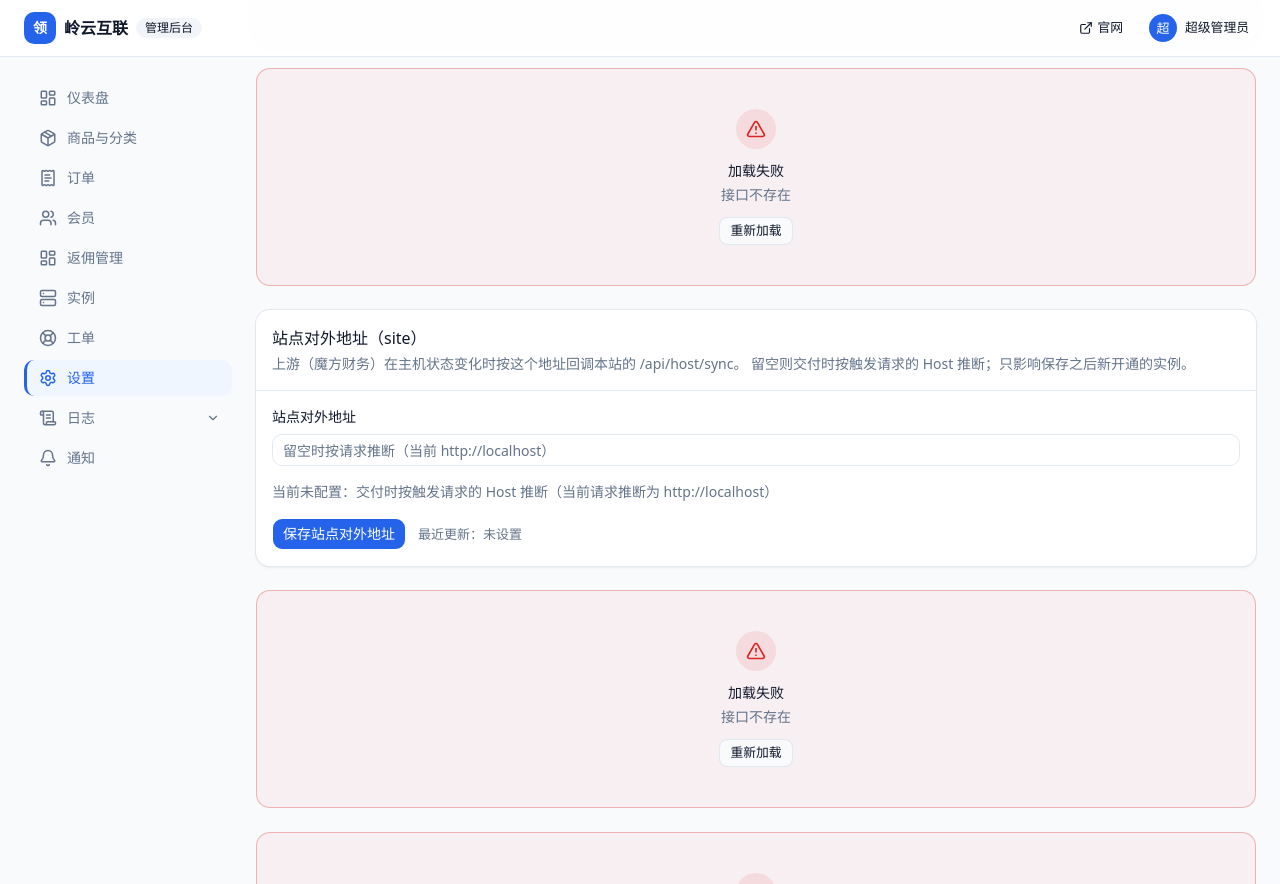
Test: 管理后台设置页：站点对外地址（R16） › 保存时带上去尾斜杠的地址并在成功后回读
(page scrolled)
Type "https://oem.example.com/" into the field labelled "站点对外地址". click: {"x": 756, "y": 450}
box: x1=272 y1=434 x2=1240 y2=466
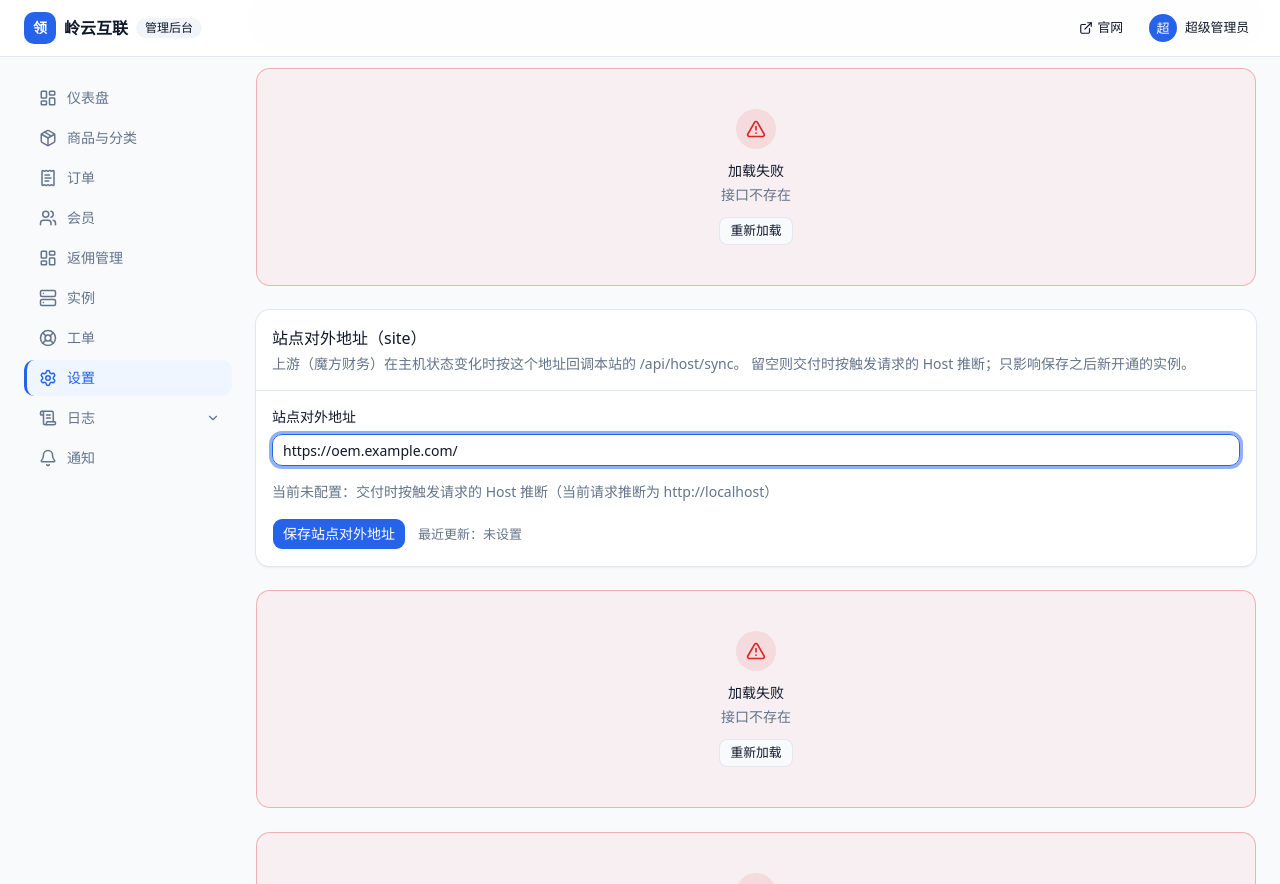
Click the button "保存站点对外地址". click: {"x": 339, "y": 534}
box: x1=272 y1=518 x2=406 y2=550
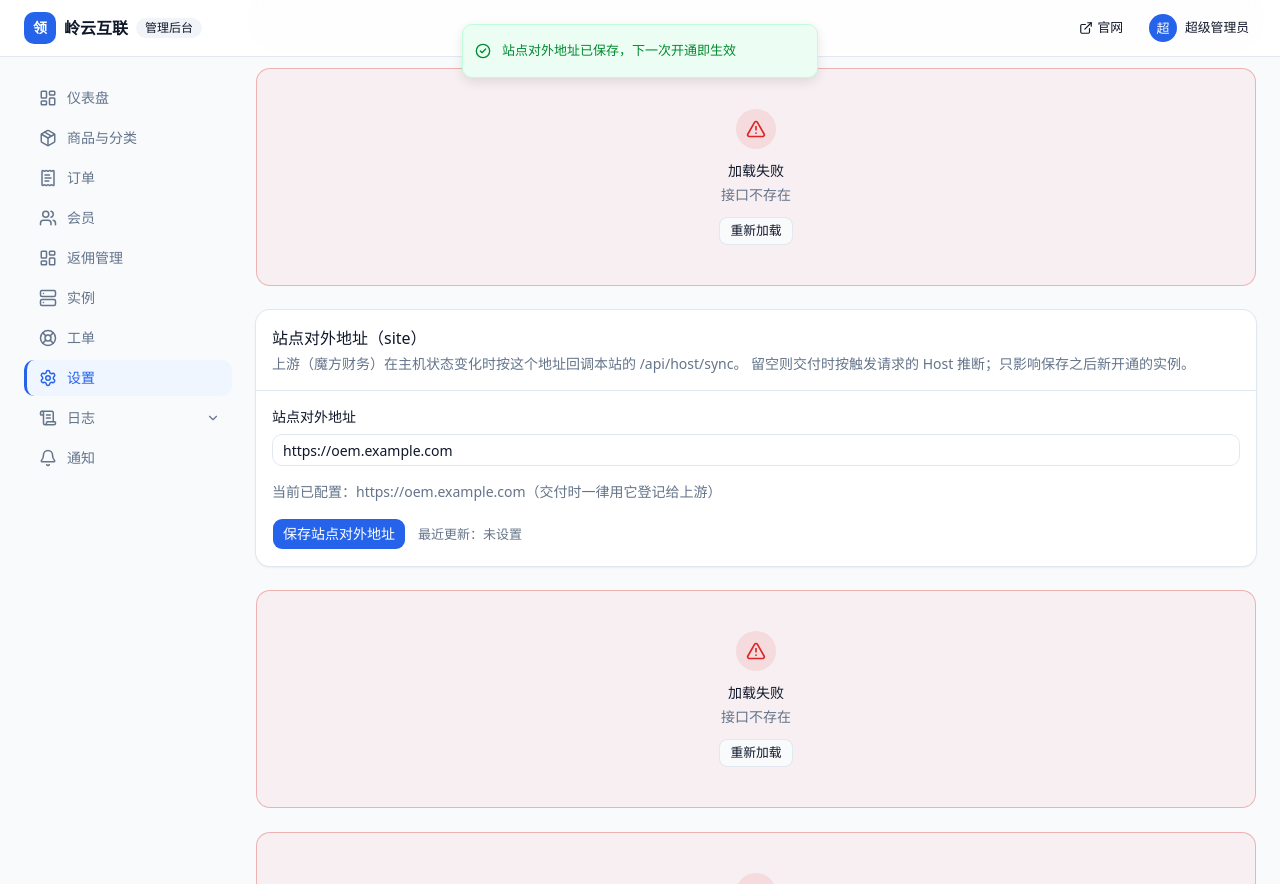
Result: the text with test id "site-url-state" shows "当前已配置" at x1=272 y1=482 x2=722 y2=501
Result: the text with test id "site-url-state" shows "https://oem.example.com" at x1=272 y1=482 x2=722 y2=501
